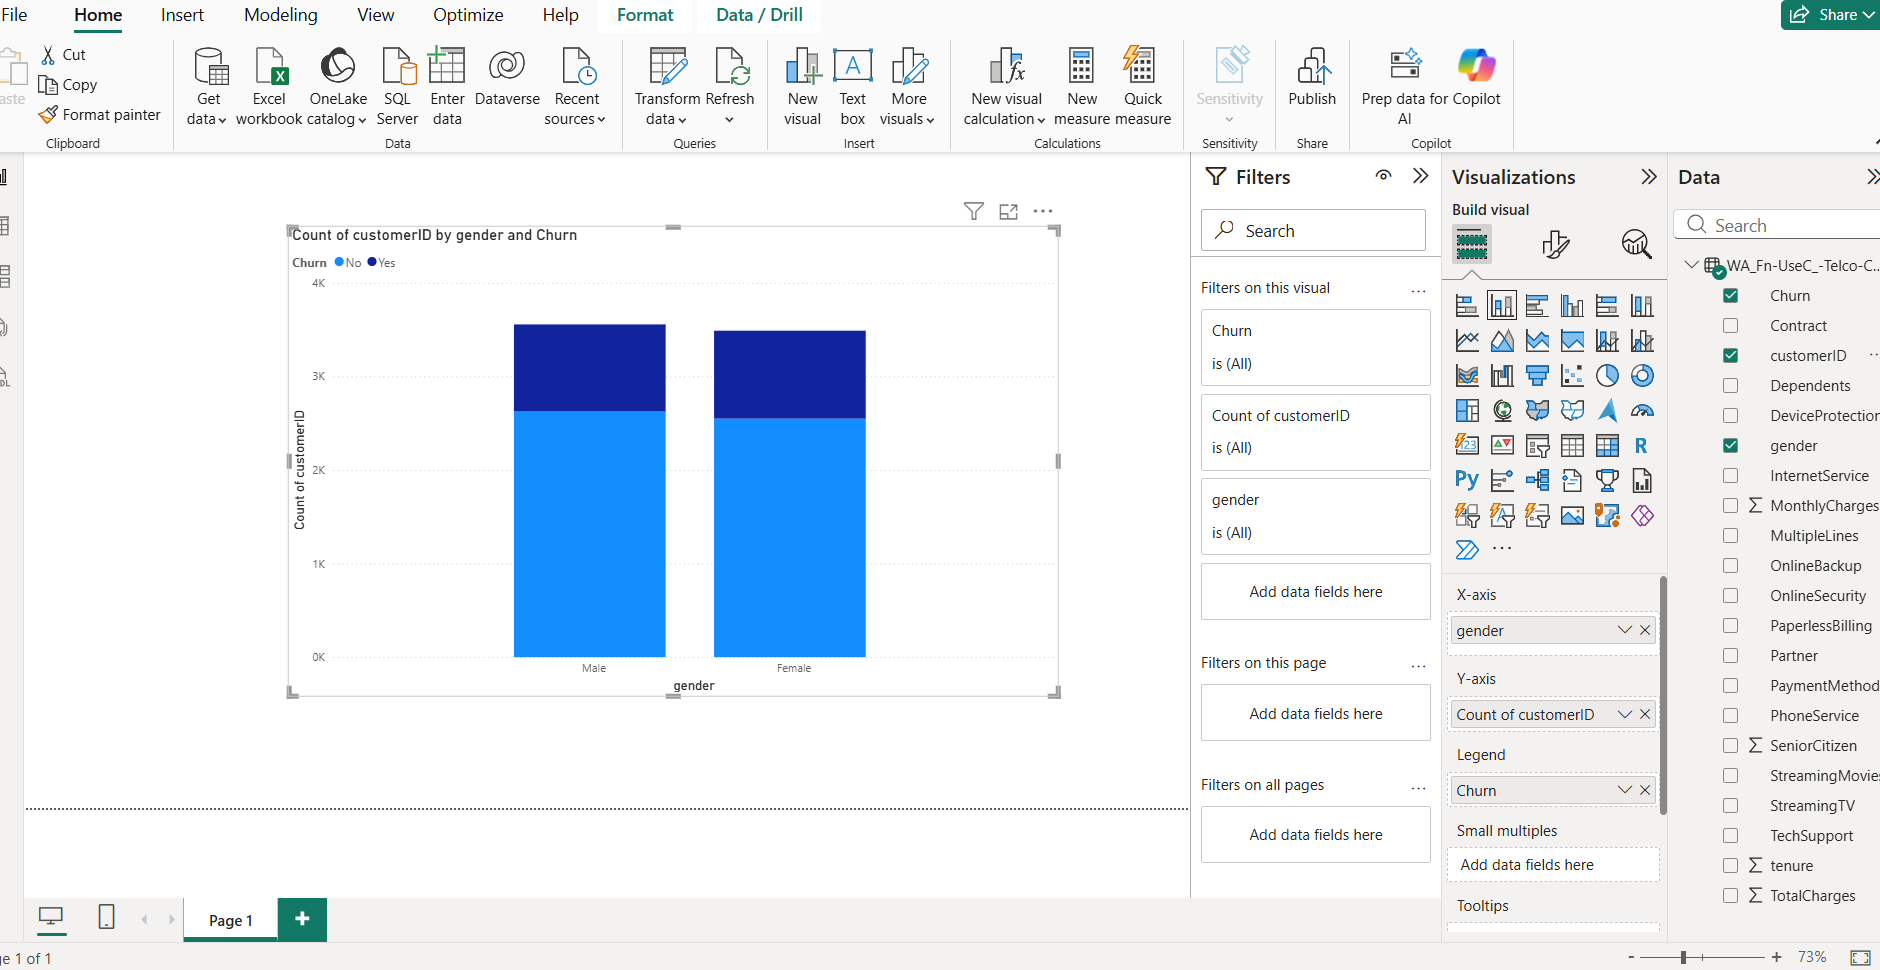

What the dashboard file says about the page in this screenshot:
{"tool":"powerbi","page":{"name":"Page 1","canvas":[1280,720],"ordinal":0},"visuals":[{"type":"columnChart","fields":{"Category":["WA_Fn-UseC_-Telco-Customer-Churn.gender"],"Series":["WA_Fn-UseC_-Telco-Customer-Churn.Churn"],"Y":["CountNonNull(WA_Fn-UseC_-Telco-Customer-Churn.customerID)"]},"box":[289.5,81,846.7,517.3],"z":0}]}

Visuals, with their boxes on the page's 1280x720 design canvas (x1, y1, x2, y2). These are canvas units, not pixel positions in the 1880x970 screenshot, which may show the page scaled, cropped or inside an application window:
columnChart - WA_Fn-UseC_-Telco-Customer-Churn.gender x WA_Fn-UseC_-Telco-Customer-Churn.Churn: box=[290, 81, 1136, 598]
